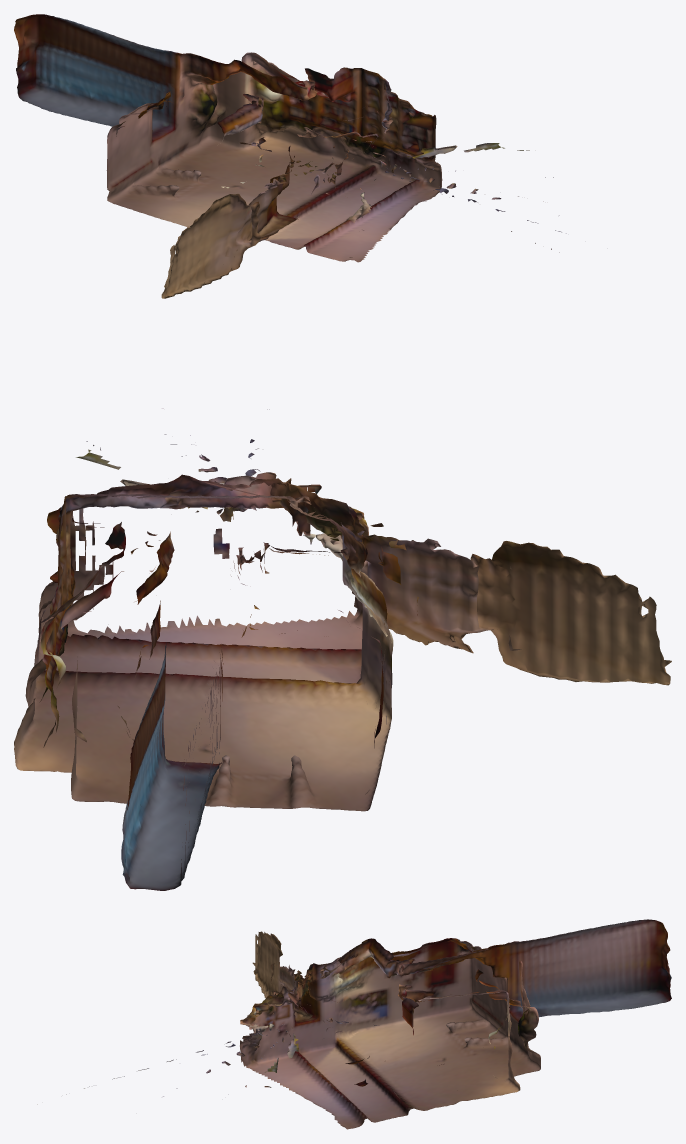
File: memory-studio-collider.glb
The picture shows the model from 3 angles, top to bottom: view 1: azimuth 30°, elevation 25°; view 2: azimuth 150°, elevation 25°; view 3: azimuth 270°, elevation 25°; orthographic projection. The views are drawn at different scales.
Parts seen in each view (by area): view 1: world; view 2: world; view 3: world.
Boxes of the visible parts, <box> form: world: <box>14,14,566,298</box>; world: <box>14,408,671,890</box>; world: <box>37,919,671,1129</box>.
Bounding box in the file's own units: 9.04 × 2.48 × 14.46.
